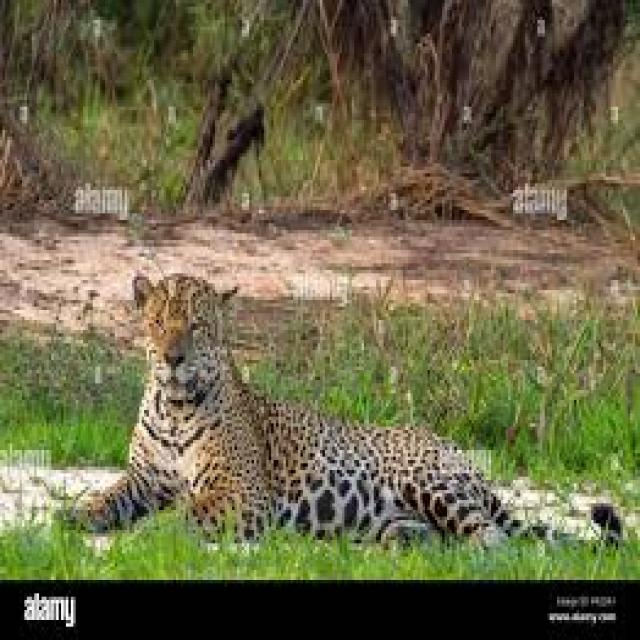Jaguar: (58, 270, 628, 557)
